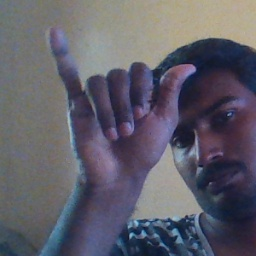J: (44, 25, 195, 180)
